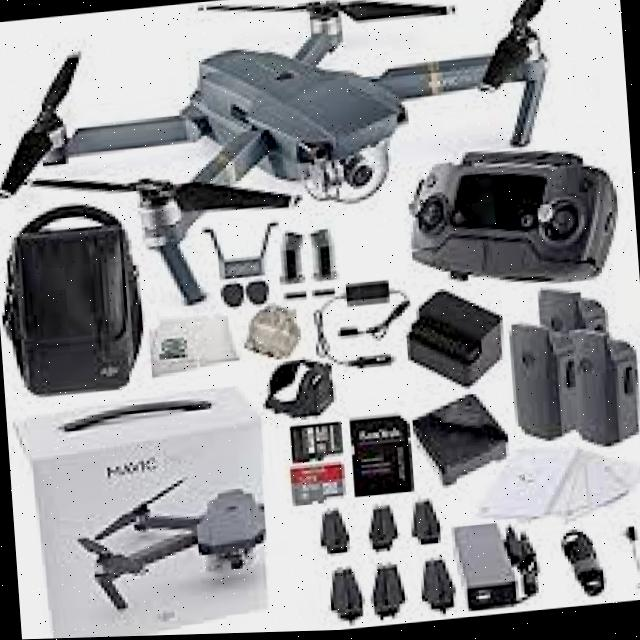drone: (0, 0, 638, 332)
